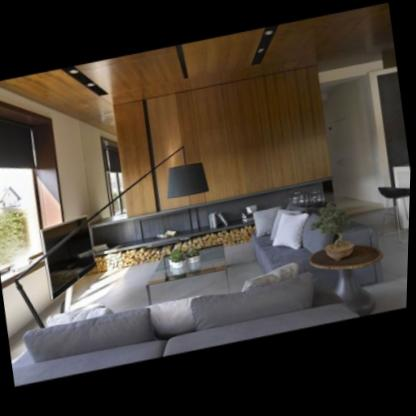Sofa: (8, 264, 376, 390), (253, 194, 390, 303)
Wall Panel: (107, 57, 339, 224)
